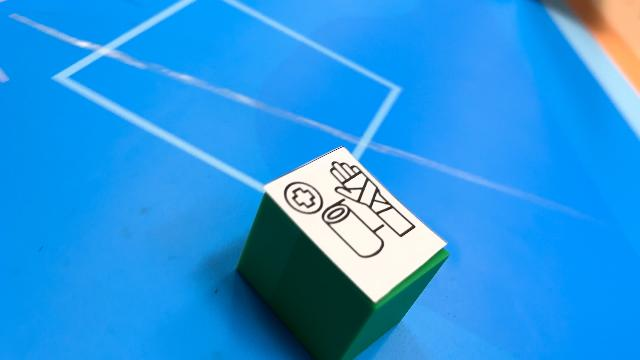bandage: (235, 145, 449, 359)
